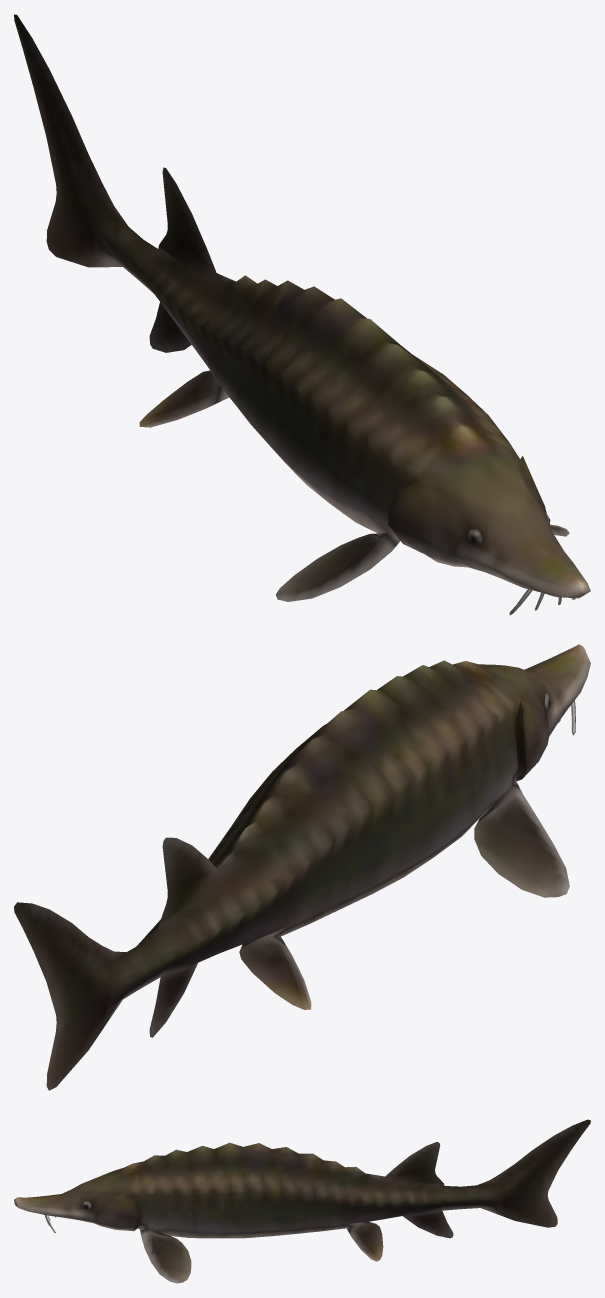
The model's file is sturgeon.glb.
The picture shows the model from 3 angles, top to bottom: view 1: azimuth 30°, elevation 25°; view 2: azimuth 150°, elevation 25°; view 3: azimuth 270°, elevation 25°; orthographic projection. The views are drawn at different scales.
Size of the model in its own units: 6.96 by 5.83 by 23.76.
1 material, 1 textured.
